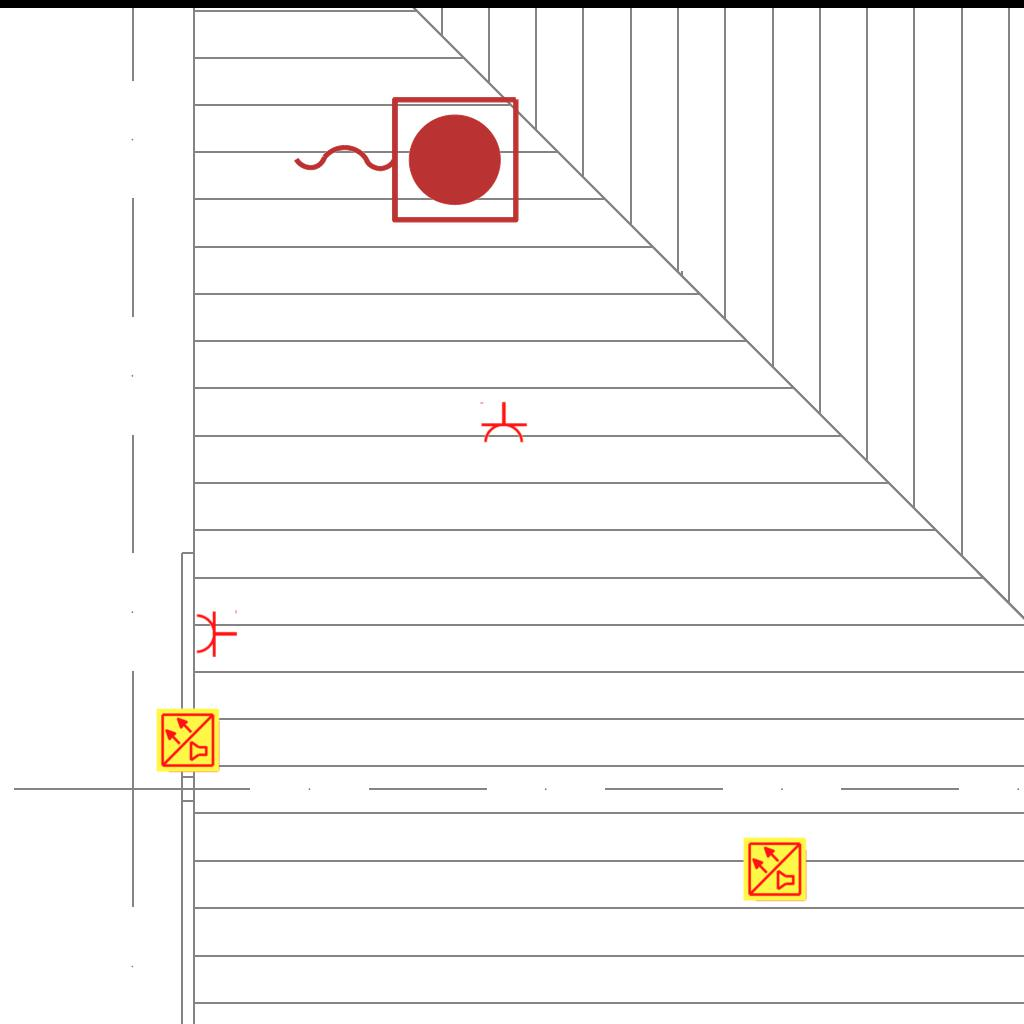OKW_Multisensormelder_(Kombination_optischer_Rauch-Kahlenmonoxid_Waerme-Melder): (155, 707, 221, 773), (742, 836, 808, 902)
Schukosteckdose_einfach: (195, 608, 238, 658), (478, 401, 528, 444)
Zugtaster: (283, 86, 527, 230)
